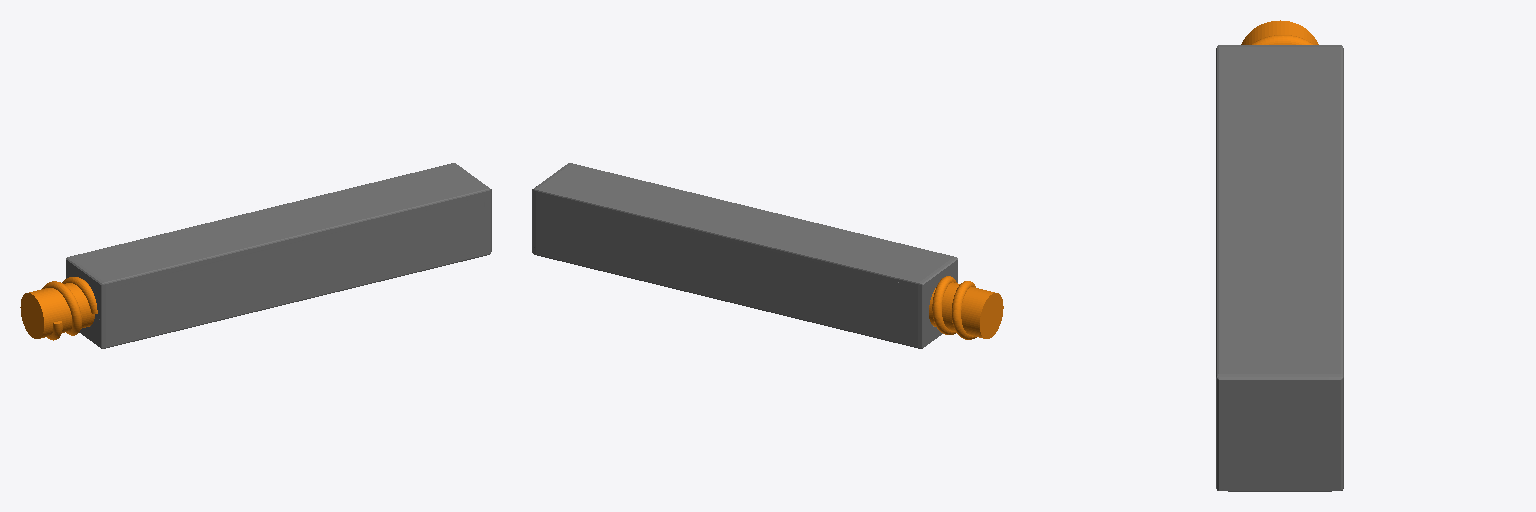
The robot description file, URDF, robot "square_table_leg4_body3x_sdf_hybrid_matchedmass":
<?xml version="1.0" encoding="utf-8"?>
<robot name="square_table_leg4_body3x_sdf_hybrid_matchedmass">
  <link name="base_link">
    <inertial>
      <!-- body stretched 3x along the leg axis from the shipped 1x part.
           Density 626.2 kg/m3, the value the shipped 22.75 g implies over its own
           hull volume. Mass and inertia recomputed, not scaled. -->
      <mass value="0.047603"/>
      <origin xyz="-0.003413 -0.000315 0.000333" rpy="0 0 0"/>
      <inertia ixx="9.584022e-06" ixy="-7.557648e-08" ixz="9.505672e-07" iyy="2.269153e-04" iyz="7.796460e-08" izz="2.272940e-04"/>
    </inertial>
  </link>
  <material name="thread">
    <color rgba="0.95 0.55 0.10 1.0"/>
  </material>
  <material name="body">
    <color rgba="0.50 0.50 0.50 1.0"/>
  </material>
  <link name="thread_link">
    <visual>
      <origin xyz="0.000000 0.000000 0.000000" rpy="0.000000 0.000000 0.000000"/>
      <geometry>
        <mesh filename="square_table_leg4_thread.obj" scale="1 1 1"/>
      </geometry>
      <material name="thread"/>
    </visual>
    <collision>
      <origin xyz="0.000000 0.000000 0.000000" rpy="0.000000 0.000000 0.000000"/>
      <geometry>
        <mesh filename="square_table_leg4_thread.obj" scale="1 1 1"/>
      </geometry>
      <sdf resolution="256"/>
    </collision>
  </link>
  <joint name="base_to_thread" type="fixed">
    <parent link="base_link"/>
    <child link="thread_link"/>
    <origin xyz="0 0 0" rpy="0 0 0"/>
  </joint>
  <link name="body_link">
    <visual><origin xyz="0 0 0" rpy="0 0 0"/><geometry><mesh filename="body_coacd/decomp_0.obj" scale="1 1 1"/></geometry><material name="body"/></visual>
    <collision><origin xyz="0 0 0" rpy="0 0 0"/><geometry><mesh filename="body_coacd/decomp_0.obj" scale="1 1 1"/></geometry></collision>
    <visual><origin xyz="0 0 0" rpy="0 0 0"/><geometry><mesh filename="body_coacd/decomp_1.obj" scale="1 1 1"/></geometry><material name="body"/></visual>
    <collision><origin xyz="0 0 0" rpy="0 0 0"/><geometry><mesh filename="body_coacd/decomp_1.obj" scale="1 1 1"/></geometry></collision>
    <visual><origin xyz="0 0 0" rpy="0 0 0"/><geometry><mesh filename="body_coacd/decomp_10.obj" scale="1 1 1"/></geometry><material name="body"/></visual>
    <collision><origin xyz="0 0 0" rpy="0 0 0"/><geometry><mesh filename="body_coacd/decomp_10.obj" scale="1 1 1"/></geometry></collision>
    <visual><origin xyz="0 0 0" rpy="0 0 0"/><geometry><mesh filename="body_coacd/decomp_11.obj" scale="1 1 1"/></geometry><material name="body"/></visual>
    <collision><origin xyz="0 0 0" rpy="0 0 0"/><geometry><mesh filename="body_coacd/decomp_11.obj" scale="1 1 1"/></geometry></collision>
    <visual><origin xyz="0 0 0" rpy="0 0 0"/><geometry><mesh filename="body_coacd/decomp_2.obj" scale="1 1 1"/></geometry><material name="body"/></visual>
    <collision><origin xyz="0 0 0" rpy="0 0 0"/><geometry><mesh filename="body_coacd/decomp_2.obj" scale="1 1 1"/></geometry></collision>
    <visual><origin xyz="0 0 0" rpy="0 0 0"/><geometry><mesh filename="body_coacd/decomp_3.obj" scale="1 1 1"/></geometry><material name="body"/></visual>
    <collision><origin xyz="0 0 0" rpy="0 0 0"/><geometry><mesh filename="body_coacd/decomp_3.obj" scale="1 1 1"/></geometry></collision>
    <visual><origin xyz="0 0 0" rpy="0 0 0"/><geometry><mesh filename="body_coacd/decomp_4.obj" scale="1 1 1"/></geometry><material name="body"/></visual>
    <collision><origin xyz="0 0 0" rpy="0 0 0"/><geometry><mesh filename="body_coacd/decomp_4.obj" scale="1 1 1"/></geometry></collision>
    <visual><origin xyz="0 0 0" rpy="0 0 0"/><geometry><mesh filename="body_coacd/decomp_5.obj" scale="1 1 1"/></geometry><material name="body"/></visual>
    <collision><origin xyz="0 0 0" rpy="0 0 0"/><geometry><mesh filename="body_coacd/decomp_5.obj" scale="1 1 1"/></geometry></collision>
    <visual><origin xyz="0 0 0" rpy="0 0 0"/><geometry><mesh filename="body_coacd/decomp_6.obj" scale="1 1 1"/></geometry><material name="body"/></visual>
    <collision><origin xyz="0 0 0" rpy="0 0 0"/><geometry><mesh filename="body_coacd/decomp_6.obj" scale="1 1 1"/></geometry></collision>
    <visual><origin xyz="0 0 0" rpy="0 0 0"/><geometry><mesh filename="body_coacd/decomp_7.obj" scale="1 1 1"/></geometry><material name="body"/></visual>
    <collision><origin xyz="0 0 0" rpy="0 0 0"/><geometry><mesh filename="body_coacd/decomp_7.obj" scale="1 1 1"/></geometry></collision>
    <visual><origin xyz="0 0 0" rpy="0 0 0"/><geometry><mesh filename="body_coacd/decomp_8.obj" scale="1 1 1"/></geometry><material name="body"/></visual>
    <collision><origin xyz="0 0 0" rpy="0 0 0"/><geometry><mesh filename="body_coacd/decomp_8.obj" scale="1 1 1"/></geometry></collision>
    <visual><origin xyz="0 0 0" rpy="0 0 0"/><geometry><mesh filename="body_coacd/decomp_9.obj" scale="1 1 1"/></geometry><material name="body"/></visual>
    <collision><origin xyz="0 0 0" rpy="0 0 0"/><geometry><mesh filename="body_coacd/decomp_9.obj" scale="1 1 1"/></geometry></collision>
  </link>
  <joint name="base_to_body" type="fixed">
    <parent link="base_link"/>
    <child link="body_link"/>
    <origin xyz="0 0 0" rpy="0 0 0"/>
  </joint>
</robot>

--- Render facts (derived) ---
3 views of the same robot in one strip: view 1: azimuth 30°, elevation 25°; view 2: azimuth 150°, elevation 25°; view 3: azimuth 270°, elevation 25° (orthographic).
Model square_table_leg4_body3x_sdf_hybrid_matchedmass with 3 links and 2 joints (2 fixed), rooted at base_link, posed all joints at 0.
Links seen in each view (by area): view 1: body_link, thread_link; view 2: body_link, thread_link; view 3: body_link, thread_link.
Boxes of the visible links, left/top/right/bottom form: body_link: left=66, top=163, right=491, bottom=348; thread_link: left=20, top=277, right=97, bottom=340; body_link: left=532, top=163, right=957, bottom=348; thread_link: left=929, top=276, right=1003, bottom=339; body_link: left=1216, top=45, right=1343, bottom=491; thread_link: left=1241, top=20, right=1318, bottom=44.
Bounding box of the posed robot: 0.2142 × 0.0307 × 0.0307 m (x, y, z).
13 mesh visuals loaded from 13 distinct referenced files (13 OBJ).
